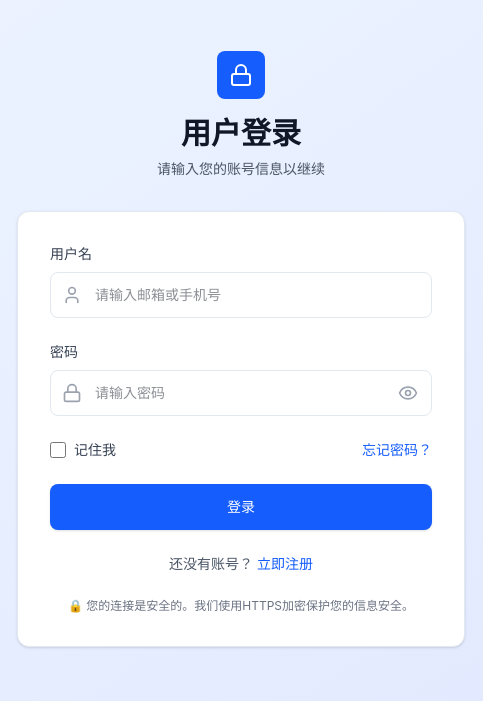
Test: LoginPage › 登录功能 › 应该处理登录失败
Type "wrong@example.com" into the field labelled "用户名" at (241, 295), box [50,272,432,318]
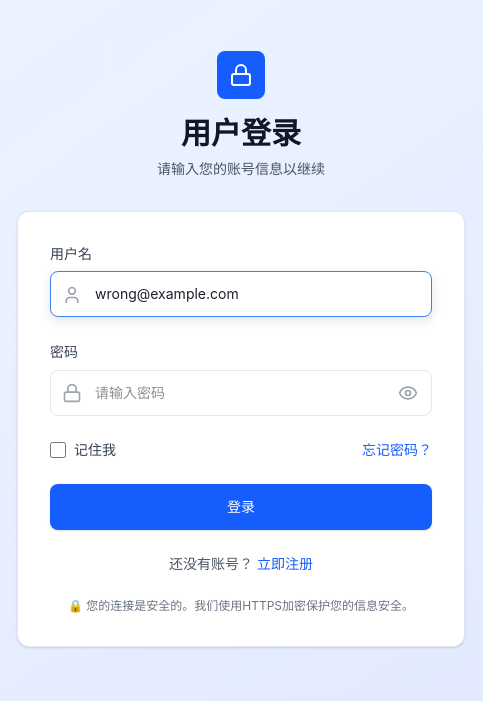
Type "Wrong123" into the password field labelled "密码" at (241, 393), box [50,370,432,416]
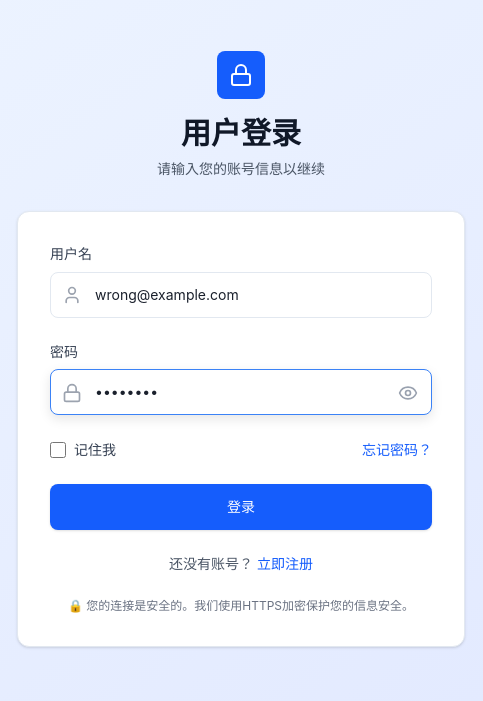
Click the button "登录" at (241, 507), box [50,484,432,530]
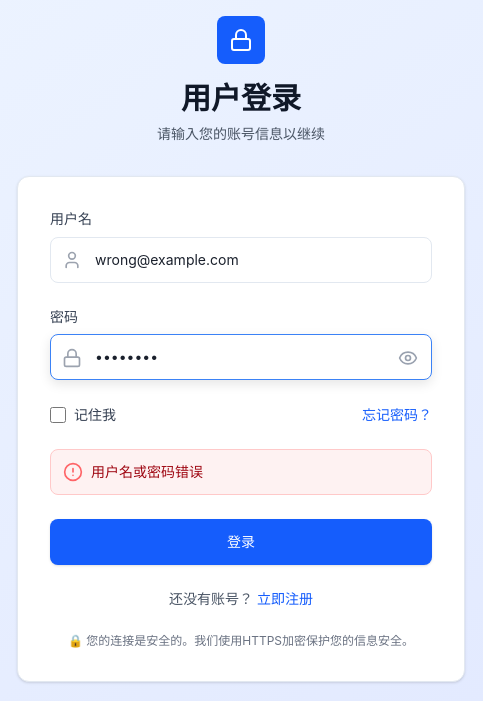
Now the text "用户名或密码错误" is shown, box [91,462,203,482]
